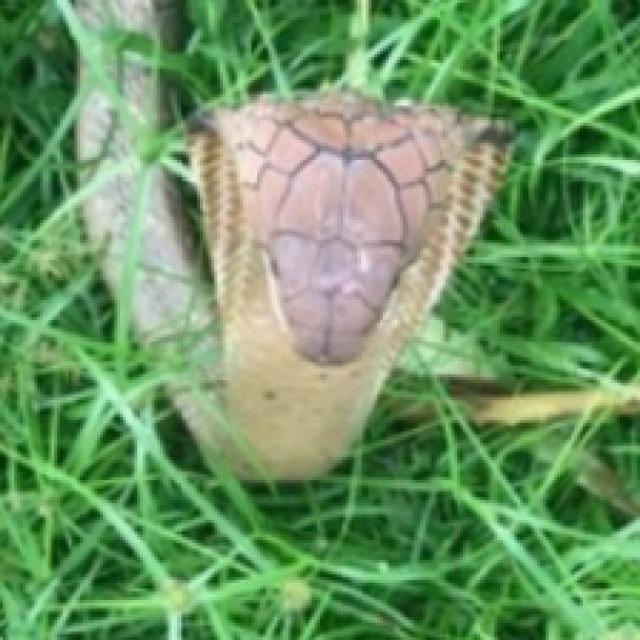king cobra: (77, 0, 509, 477)
